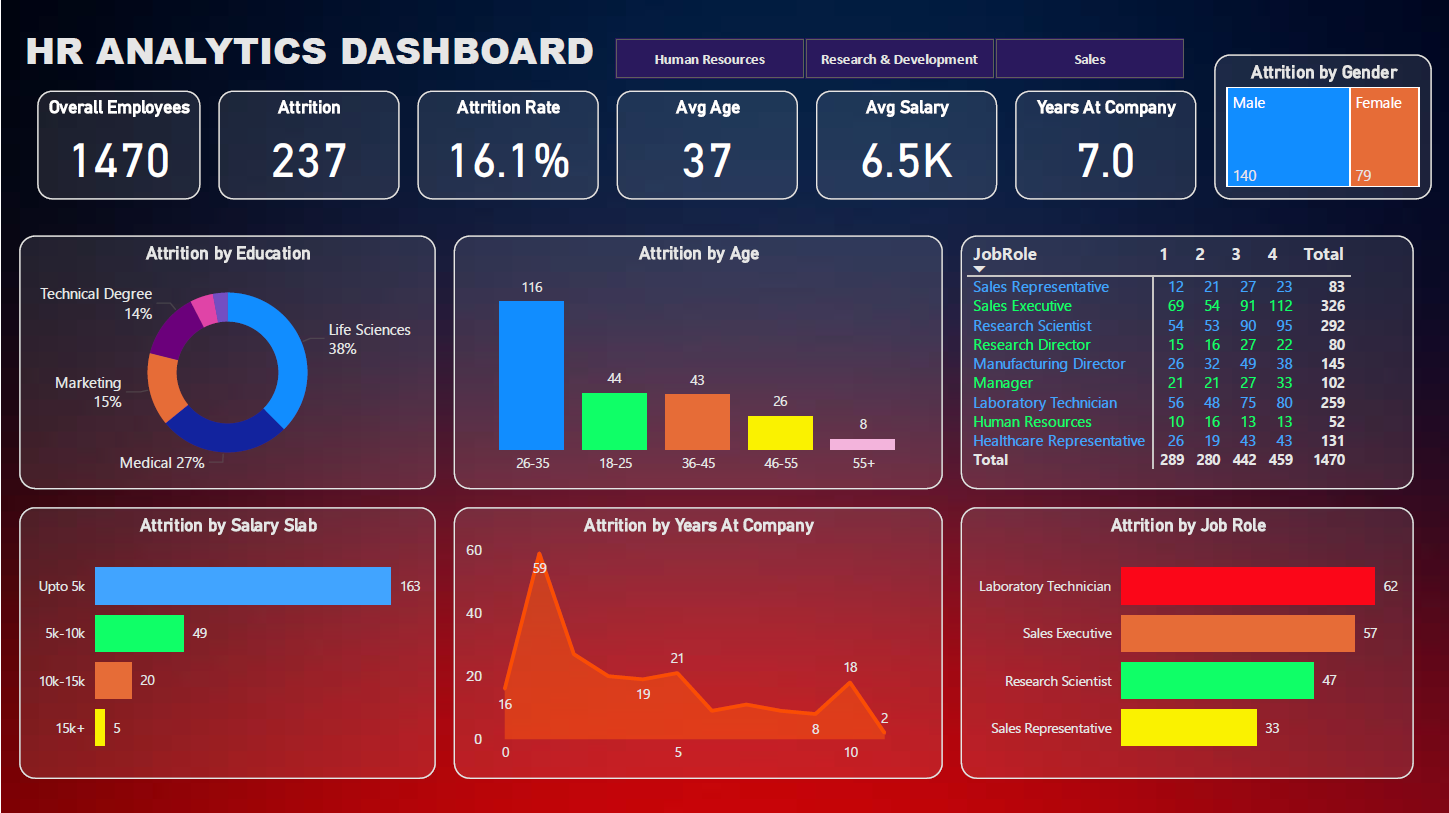

This screenshot's page, from the dashboard's own definition file:
{"tool":"powerbi","page":{"name":"Page 1","canvas":[1280,720],"ordinal":0},"visuals":[{"type":"card","title":"Overall Employees","fields":{"Values":["CountNonNull(HR_Analytics.EmpID)"]},"box":[32,80,144,96],"z":0},{"type":"card","title":"Avg Age","fields":{"Values":["Avg(HR_Analytics.Age)"]},"box":[544,80,160,96],"z":1000},{"type":"card","title":"Attrition Rate","fields":{"Values":["HR_Analytics.AttritionRate"]},"box":[368,80,160,96],"z":2000},{"type":"card","title":"Attrition","fields":{"Values":["Sum(HR_Analytics.AttritionCount)"]},"box":[192,80,160,96],"z":3000},{"type":"card","title":"Years At Company","fields":{"Values":["Avg(HR_Analytics.YearsAtCompany)"]},"box":[896,80,160,96],"z":4000},{"type":"card","title":"Avg Salary","fields":{"Values":["Avg(HR_Analytics.MonthlyIncome)"]},"box":[720,80,160,96],"z":5000},{"type":"donutChart","title":"Attrition by Education","fields":{"Category":["HR_Analytics.EducationField"],"Y":["Sum(HR_Analytics.AttritionCount)"]},"box":[16,208,368,224],"z":6000},{"type":"columnChart","title":"Attrition by Age","fields":{"Category":["HR_Analytics.AgeGroup"],"Y":["Sum(HR_Analytics.AttritionCount)"]},"box":[400,208,432,224],"z":7000},{"type":"pivotTable","fields":{"Rows":["HR_Analytics.JobRole"],"Columns":["HR_Analytics.JobSatisfaction"],"Values":["Sum(HR_Analytics.EmployeeCount)"]},"box":[848,208,400,224],"z":8000},{"type":"barChart","title":"Attrition by Salary Slab","fields":{"Category":["HR_Analytics.SalarySlab"],"Y":["Sum(HR_Analytics.AttritionCount)"]},"box":[16,448,368,240],"z":9000},{"type":"barChart","title":"Attrition by Job Role","fields":{"Y":["Sum(HR_Analytics.AttritionCount)"],"Category":["HR_Analytics.JobRole"]},"box":[848,448,400,240],"z":10000},{"type":"areaChart","title":"Attrition by Years At Company","fields":{"Category":["HR_Analytics.YearsAtCompany"],"Y":["Sum(HR_Analytics.AttritionCount)"]},"box":[400,448,432,240],"z":11000},{"type":"treemap","title":"Attrition by Gender","fields":{"Group":["HR_Analytics.Gender"],"Values":["Sum(HR_Analytics.AttritionCount)"]},"box":[1072,48,192,128],"z":12000},{"type":"slicer","fields":{"Values":["HR_Analytics.Department"]},"box":[512,28,560,48],"z":13000},{"type":"textbox","box":[16,16,592,80],"z":14000}]}

Visuals, with their boxes in screenshot pixels (x1, y1, x2, y2), scaled from the page's 1280x720 canvas onto the 1449x813 screenshot:
"Overall Employees" card: box(36, 90, 199, 199)
"Avg Age" card: box(616, 90, 797, 199)
"Attrition Rate" card: box(417, 90, 598, 199)
"Attrition" card: box(217, 90, 398, 199)
"Years At Company" card: box(1014, 90, 1195, 199)
"Avg Salary" card: box(815, 90, 996, 199)
"Attrition by Education" donutChart: box(18, 235, 435, 488)
"Attrition by Age" columnChart: box(453, 235, 942, 488)
pivotTable - HR_Analytics.JobRole x HR_Analytics.JobSatisfaction: box(960, 235, 1413, 488)
"Attrition by Salary Slab" barChart: box(18, 506, 435, 777)
"Attrition by Job Role" barChart: box(960, 506, 1413, 777)
"Attrition by Years At Company" areaChart: box(453, 506, 942, 777)
"Attrition by Gender" treemap: box(1214, 54, 1431, 199)
slicer - HR_Analytics.Department: box(580, 32, 1214, 86)
textbox: box(18, 18, 688, 108)
